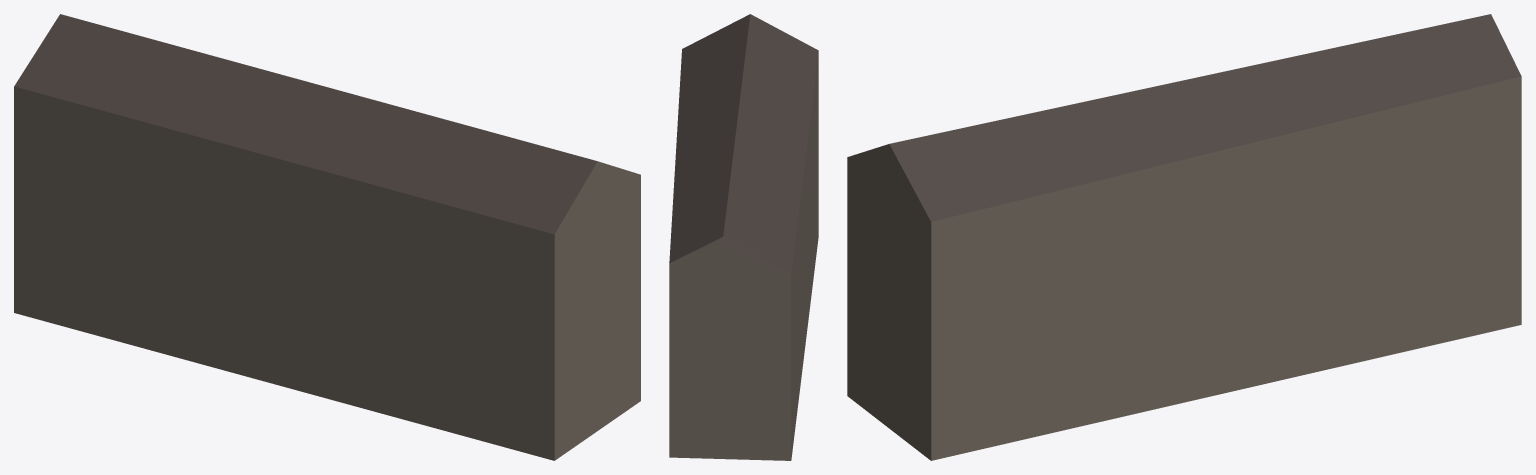
3 renders of one model, left to right at view 1: azimuth 30°, elevation 25°; view 2: azimuth 150°, elevation 25°; view 3: azimuth 270°, elevation 25°, orthographic. The views are drawn at different scales.
Visible parts, largest first — view 1: HP-w505643591; view 2: HP-w505643591; view 3: HP-w505643591.
Part boxes in pixels (bbox=[...]): HP-w505643591: bbox=[14, 14, 640, 460]; HP-w505643591: bbox=[669, 14, 818, 460]; HP-w505643591: bbox=[847, 14, 1521, 460].
Size of the model in its own units: 15.79 by 10.72 by 23.02.
